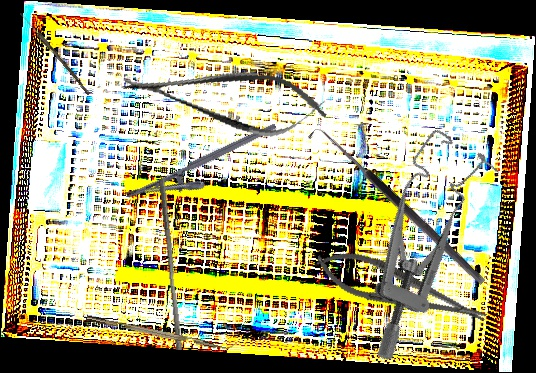Chopper: (85, 307, 238, 355)
Hook Surgical: (306, 123, 487, 294)
Micro Scissor: (116, 47, 333, 148)
Needle Holder: (309, 240, 493, 339), (124, 122, 287, 220)
Pusher: (151, 178, 189, 351)
Speculum: (309, 122, 519, 365)
Surgical Spoon: (18, 11, 92, 96)
